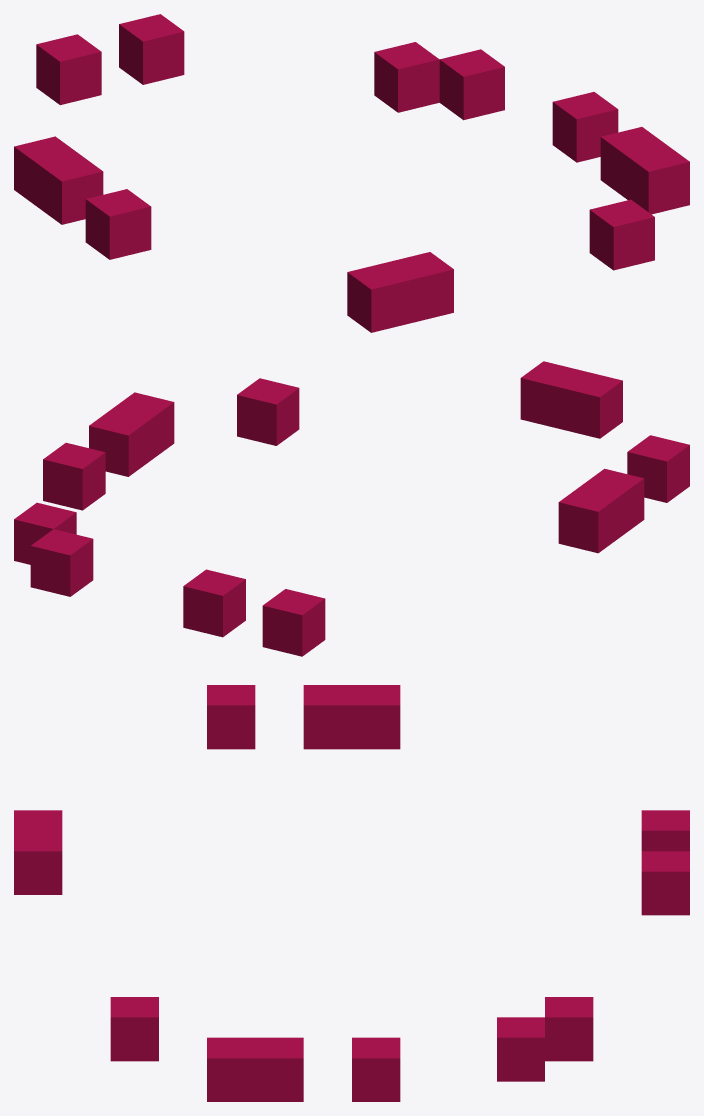
The model's file is luzsaturno-rosa3.obj.
3 renders of one model, top to bottom at view 1: azimuth 30°, elevation 25°; view 2: azimuth 150°, elevation 25°; view 3: azimuth 270°, elevation 25°, orthographic. The views are drawn at different scales.
Bounding box in the file's own units: 1.4 × 0.3 × 1.4.
Materials: 1 (1 with a texture image).
